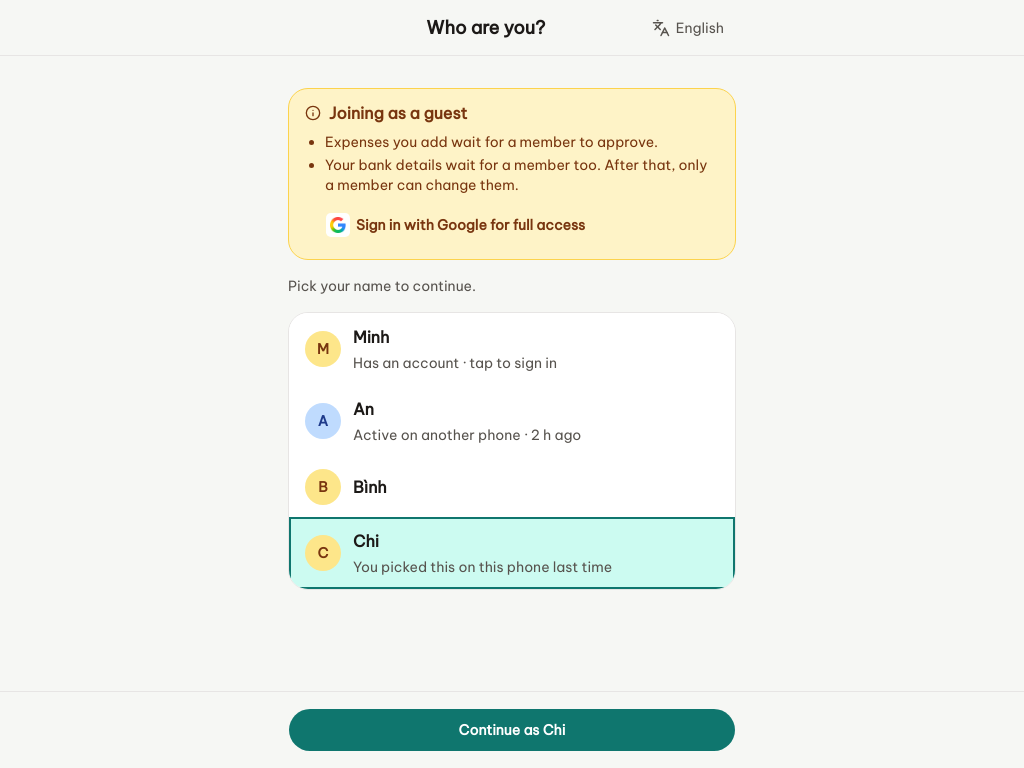
Test: WhoAreYou errors › shows an inline error when picking fails
Click the button "Continue as Chi" at (512, 730), box [288,708,736,752]
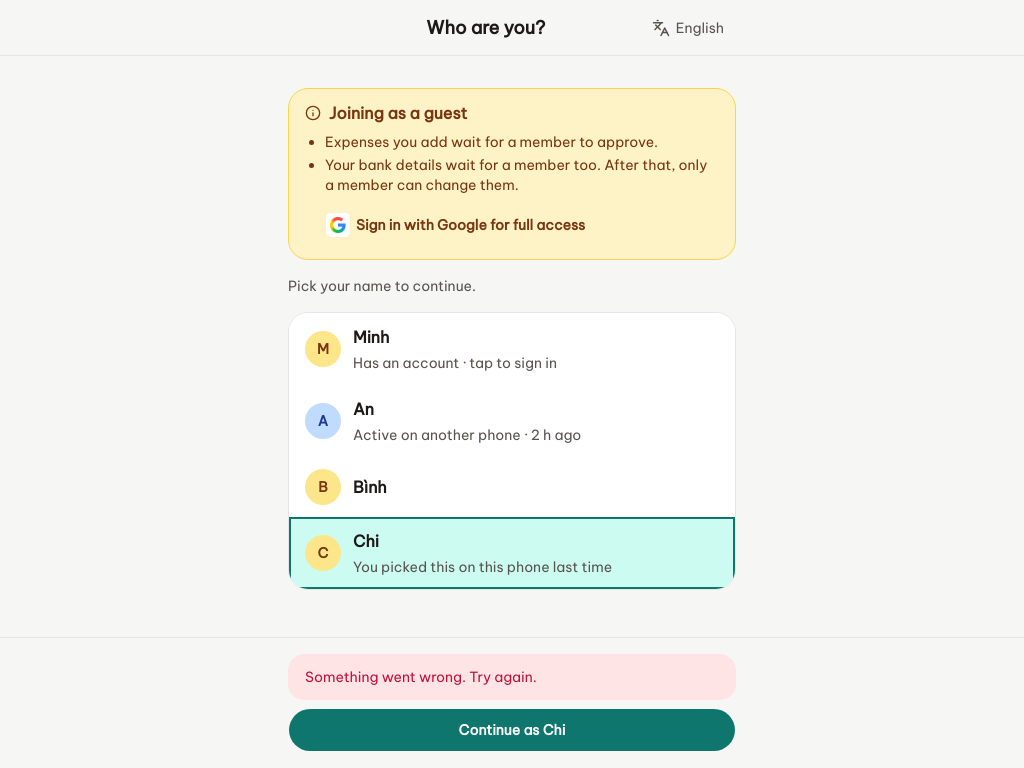
Expected: the text "Something went wrong. Try again." is shown, [305,668,537,686]
